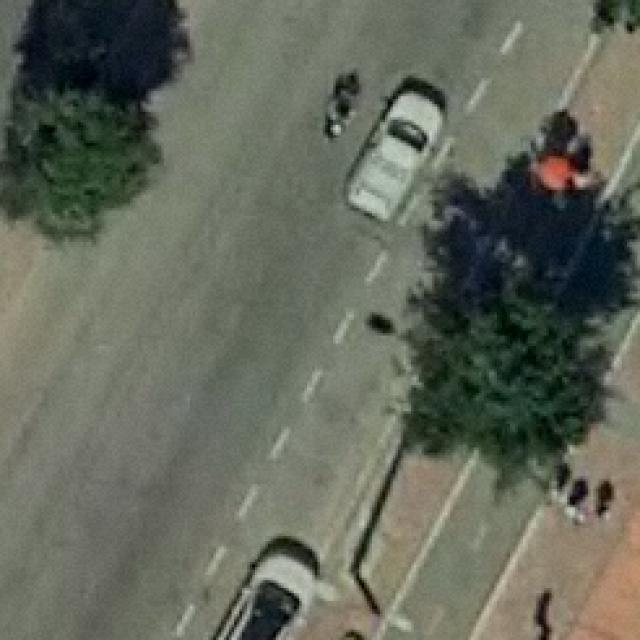vendedor_ambulante: (532, 148, 588, 200)
